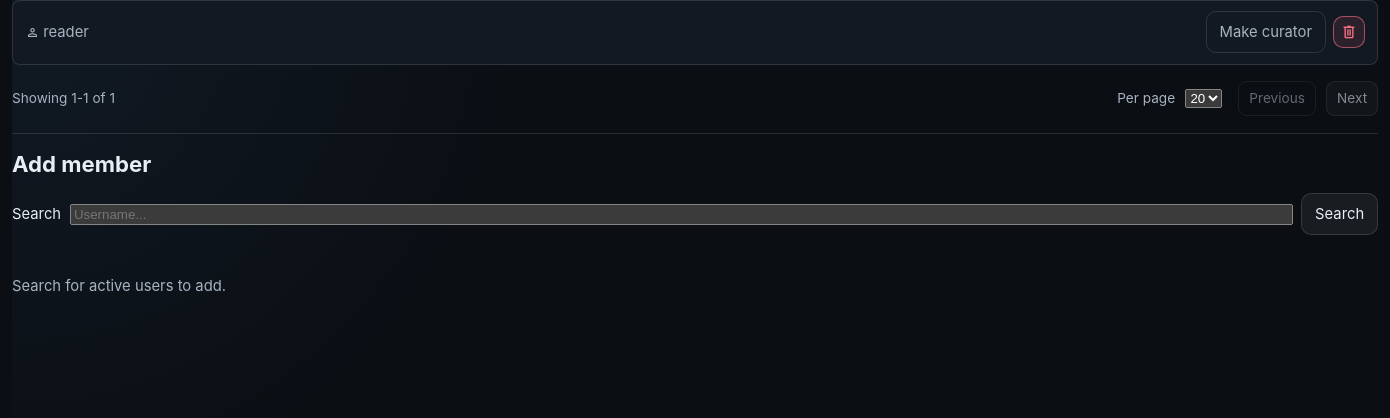
it: GroupMembersEditOrchestrator › keeps a member visible when confirmed removal fails
Click the button named "Remove reader from group" at x=1349, y=32, box [1333,16,1365,48]
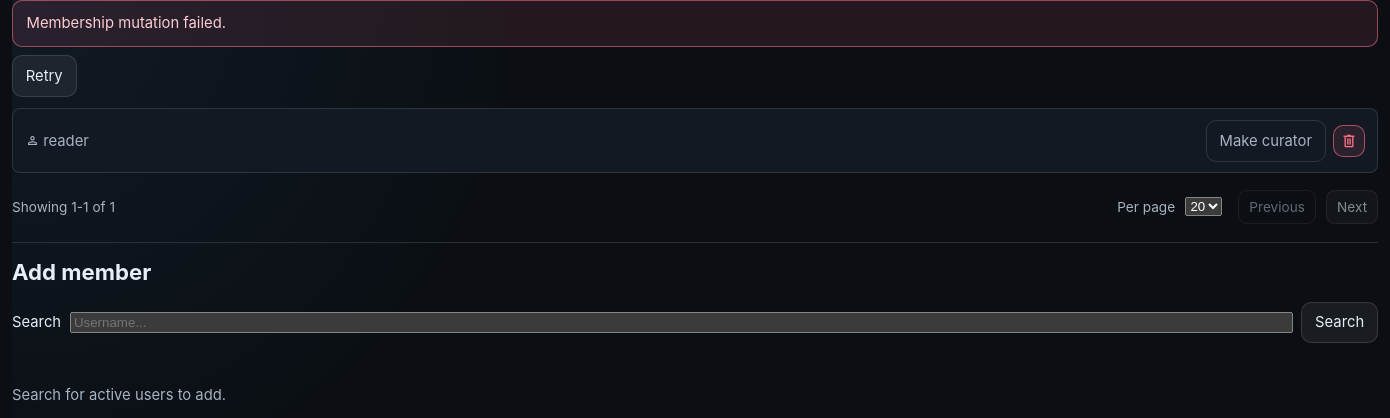
expect the text "reader" is shown: met, box [43,130,89,152]
expect the message "Membership mutation failed." is shown: met, box [12,0,1378,47]
